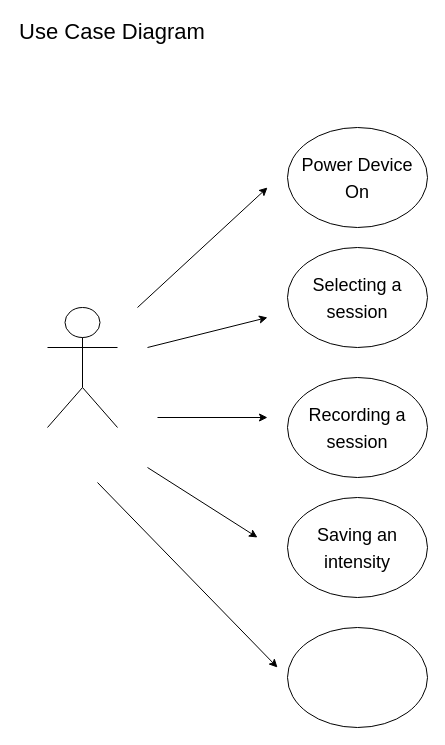
Some shapes in this 445 by 745 pixel diagram are drawn without their labels. Here are the shapes that lost their labels. From the top down, the centre of each, then its label:
At (82,367): "User".
At (357,677): "Power Device Off".
